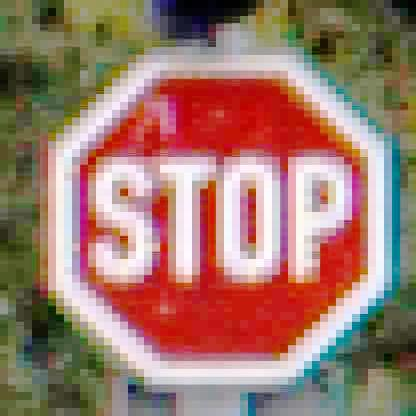Stop Sign: (51, 48, 399, 385)
